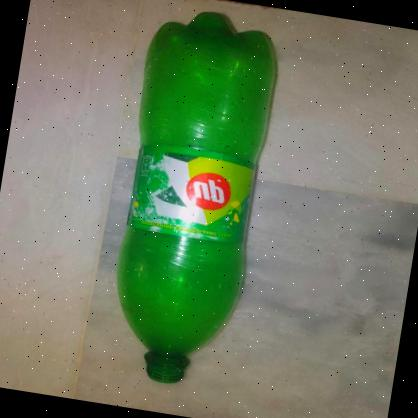bottle: (90, 0, 302, 403)
label: (118, 134, 268, 256)
